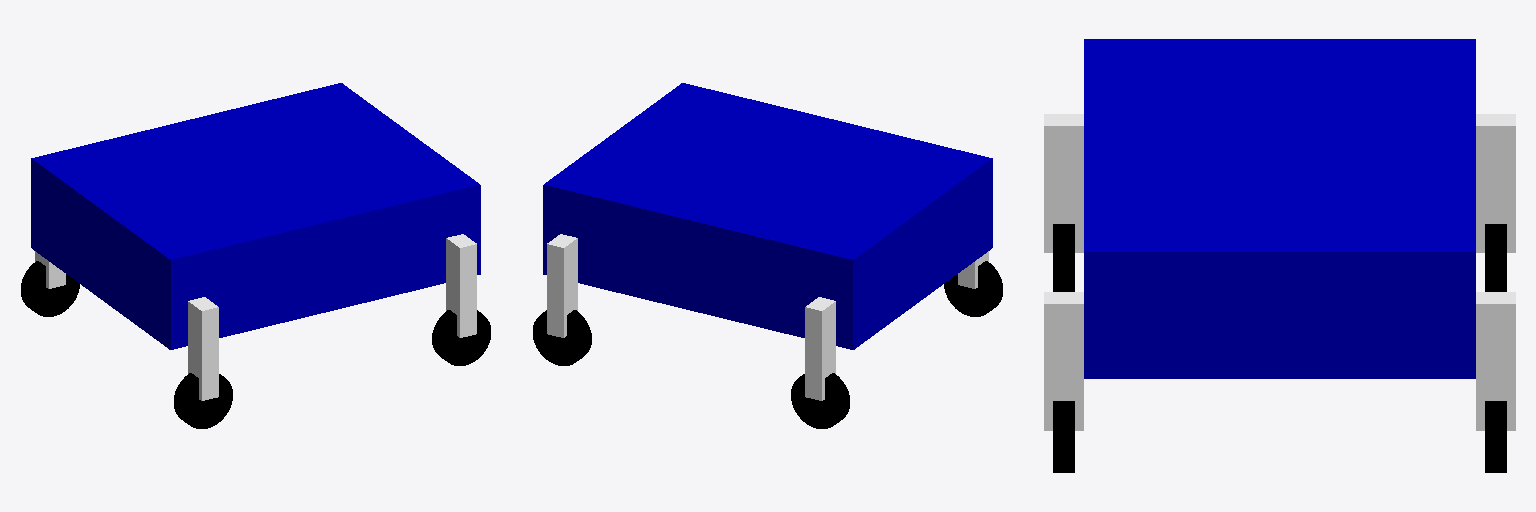
robot.urdf — my_robot:
<?xml version="1.0"?>

<robot name="my_robot">

	<material name="blue">
    		<color rgba="0 0 0.8 1"/>
  	</material>
  	
  	<material name="white">
    		<color rgba="1 1 1 1"/>
  	</material>
  	
  	<material name="black">
  		<color rgba = "0 0 0 1"/>
  	</material>

	<material name="red">
		<color rgba = "1 0 0 1"/>
	</material>
  	
  	<link name="base_dummy"/>

    	<joint name="base_dummy_joint" type="fixed">
        	<parent link="base_dummy"/>
        	<child link="base_link"/>
        	<origin xyz="0 0 0" rpy="0 0 0"/>
    	</joint>
  
	<link name = "base_link">
		<visual>
			<geometry>
				<box size="1.8 1.4 0.5"/>
			</geometry>
			<material name="blue"/>
		</visual>
		<collision>
            		<geometry>
                		<box size="1.8 1.4 0.5"/>
            		</geometry>
        	</collision>

		<inertial>
			<mass value="10.0"/>
		    	<!-- Box: 1.8 x 1.4 x 0.5, mass=10 -->
		    	<!-- ixx = (1/12)*10*(1.4^2 + 0.5^2) = 1.847 -->
		    	<!-- iyy = (1/12)*10*(1.8^2 + 0.5^2) = 2.908 -->
		    	<!-- izz = (1/12)*10*(1.8^2 + 1.4^2) = 4.333 -->
		    	<inertia
		        	ixx="1.847" ixy="0.0" ixz="0.0"
		        	iyy="2.908" iyz="0.0"
		        	izz="4.333"/>
		</inertial>
	</link>
	
	<link name = "back_left_leg">
		<visual>
			<geometry>
				<box size="0.1 0.14 0.5"/>
			</geometry>
			<material name="white"/>
			<origin xyz = "0 0 -0.125"/>
		</visual>
		
		<collision>
			<geometry>
		        	<box size="0.1 0.14 0.5"/>
		    	</geometry>
		    	<origin xyz="0 0 -0.125"/>
		</collision>

		<inertial>
		    	<mass value="0.5"/>
		    	<origin xyz="0 0 -0.125"/>
		    	<!-- Box: 0.1 x 0.14 x 0.5, mass=0.5 -->
		    	<!-- ixx = (1/12)*0.5*(0.14^2 + 0.5^2) = 0.0112 -->
		    	<!-- iyy = (1/12)*0.5*(0.1^2 + 0.5^2)  = 0.0108 -->
		   	 <!-- izz = (1/12)*0.5*(0.1^2 + 0.14^2)  = 0.0012 -->
		    	<inertia
		        	ixx="0.0112" ixy="0.0" ixz="0.0"
		        	iyy="0.0108" iyz="0.0"
		        	izz="0.0012"/>
		</inertial>
	</link>
	
	<joint name = "back_left_leg_joint" type="fixed">
		<parent link = "base_link"/>
		<child link = "back_left_leg"/>
		<origin xyz = "-0.75 -.77 -0.125"/>
		<limit lower="-1.5708" upper="1.5708" effort="10" velocity="1"/>
	</joint>
	
	<link name = "back_right_leg">
		<visual>
			<geometry>
				<box size = "0.1 0.14 0.5"/>
			</geometry>
			<material name="white"/>
			<origin xyz = "0 0 -0.125"/>
		</visual>
		<collision>
			<geometry>
		        	<box size="0.1 0.14 0.5"/>
		    	</geometry>
		    	<origin xyz="0 0 -0.125"/>
		</collision>

		<inertial>
		    	<mass value="0.5"/>
		    	<origin xyz="0 0 -0.125"/>
		    	<!-- Box: 0.1 x 0.14 x 0.5, mass=0.5 -->
		    	<!-- ixx = (1/12)*0.5*(0.14^2 + 0.5^2) = 0.0112 -->
		    	<!-- iyy = (1/12)*0.5*(0.1^2 + 0.5^2)  = 0.0108 -->
		   	 <!-- izz = (1/12)*0.5*(0.1^2 + 0.14^2)  = 0.0012 -->
		    	<inertia
		        	ixx="0.0112" ixy="0.0" ixz="0.0"
		        	iyy="0.0108" iyz="0.0"
		        	izz="0.0012"/>
		</inertial>
	</link>
	
	<joint name = "back_right_leg_joint" type = "fixed">
		<parent link = "base_link"/>
		<child link = "back_right_leg"/>
		<origin xyz = "-0.75 0.77 -0.125"/>
		<limit lower="-1.5708" upper="1.5708" effort="10" velocity="1"/>
	</joint>
	
	<link name = "front_left_leg">
		<visual>
			<geometry>
				<box size="0.1 0.14 0.5"/>
			</geometry>
			<material name="white"/>
			<origin xyz = "0 0 -0.125"/>
		</visual>
		<collision>
			<geometry>
		        	<box size="0.1 0.14 0.5"/>
		    	</geometry>
		    	<origin xyz="0 0 -0.125"/>
		</collision>

		<inertial>
		    	<mass value="0.5"/>
		    	<origin xyz="0 0 -0.125"/>
		    	<!-- Box: 0.1 x 0.14 x 0.5, mass=0.5 -->
		    	<!-- ixx = (1/12)*0.5*(0.14^2 + 0.5^2) = 0.0112 -->
		    	<!-- iyy = (1/12)*0.5*(0.1^2 + 0.5^2)  = 0.0108 -->
		   	 <!-- izz = (1/12)*0.5*(0.1^2 + 0.14^2)  = 0.0012 -->
		    	<inertia
		        	ixx="0.0112" ixy="0.0" ixz="0.0"
		        	iyy="0.0108" iyz="0.0"
		        	izz="0.0012"/>
		</inertial>
	</link>
	
	<joint name = "front_left_leg_joint" type="fixed">
		<parent link = "base_link"/>
		<child link = "front_left_leg"/>
		<origin xyz = "0.75 -.77 -0.125"/>
		<limit lower="-1.5708" upper="1.5708" effort="10" velocity="1"/>
	</joint>
	
	<link name = "front_right_leg">
		<visual>
			<geometry>
				<box size = "0.1 0.14 0.5"/>
			</geometry>
			<material name="white"/>
			<origin xyz = "0 0 -0.125"/>
		</visual>
		<collision>
			<geometry>
		        	<box size="0.1 0.14 0.5"/>
		    	</geometry>
		    	<origin xyz="0 0 -0.125"/>
		</collision>

		<inertial>
		    	<mass value="0.5"/>
		    	<origin xyz="0 0 -0.125"/>
		    	<!-- Box: 0.1 x 0.14 x 0.5, mass=0.5 -->
		    	<!-- ixx = (1/12)*0.5*(0.14^2 + 0.5^2) = 0.0112 -->
		    	<!-- iyy = (1/12)*0.5*(0.1^2 + 0.5^2)  = 0.0108 -->
		   	 <!-- izz = (1/12)*0.5*(0.1^2 + 0.14^2)  = 0.0012 -->
		    	<inertia
		        	ixx="0.0112" ixy="0.0" ixz="0.0"
		        	iyy="0.0108" iyz="0.0"
		        	izz="0.0012"/>
		</inertial>
	</link>
	
	<joint name = "front_right_leg_joint" type = "fixed">
		<parent link = "base_link"/>
		<child link = "front_right_leg"/>
		<origin xyz = "0.75 0.77 -0.125"/>
		<limit lower="-1.5708" upper="1.5708" effort="10" velocity="1"/>
	</joint>
	
	<link name = "left_back_wheel">
		<visual>
			<geometry>
				<cylinder radius = "0.15" length = "0.08"/>
			</geometry>
			<material name="black"/>
			<origin rpy = "1.5708 0 0"/>
		</visual>
		<collision>
            		<geometry>
                		<cylinder radius="0.15" length="0.08"/>
            		</geometry>
           	 	<origin rpy="1.5708 0 0"/>
        	</collision>

        	<inertial>
            		<mass value="1.0"/>
            		<!-- Cylinder: r=0.15, h=0.08, mass=1.0 -->
            		<!-- ixx = (1/12)*1*(3*0.15^2 + 0.08^2) = 0.006 -->
            		<!-- iyy = (1/12)*1*(3*0.15^2 + 0.08^2) = 0.006 -->
            		<!-- izz = (1/2)*1*0.15^2 = 0.011 -->
            		<inertia
                		ixx="0.006" ixy="0.0" ixz="0.0"
                		iyy="0.006" iyz="0.0"
                		izz="0.011"/>
        	</inertial>
	</link>
	
	<joint name = "left_back_wheel_joint" type = "continuous">
		<parent link = "back_left_leg"/>
		<child link = "left_back_wheel"/>
		<axis xyz = "0 1 0"/>
		<origin xyz = "0 0 -0.4"/>
	</joint>
	
	<link name = "right_back_wheel">
		<visual>
			<geometry>
				<cylinder radius = "0.15" length = "0.08"/>
			</geometry>
			<material name="black"/>
			<origin rpy = "1.5708 0 0"/>
		</visual>
		
		<collision>
            		<geometry>
                		<cylinder radius="0.15" length="0.08"/>
            		</geometry>
           	 	<origin rpy="1.5708 0 0"/>
        	</collision>

        	<inertial>
            		<mass value="1.0"/>
            		<!-- Cylinder: r=0.15, h=0.08, mass=1.0 -->
            		<!-- ixx = (1/12)*1*(3*0.15^2 + 0.08^2) = 0.006 -->
            		<!-- iyy = (1/12)*1*(3*0.15^2 + 0.08^2) = 0.006 -->
            		<!-- izz = (1/2)*1*0.15^2 = 0.011 -->
            		<inertia
                		ixx="0.006" ixy="0.0" ixz="0.0"
                		iyy="0.006" iyz="0.0"
                		izz="0.011"/>
        	</inertial>
	</link>
	
	<joint name = "right_back_wheel_joint" type = "continuous">
		<parent link = "back_right_leg"/>
		<child link = "right_back_wheel"/>
		<axis xyz = "0 1 0"/>
		<origin xyz = "0 0 -0.4"/>
	</joint>
	
	<link name = "left_front_wheel">
		<visual>
			<geometry>
				<cylinder radius = "0.15" length = "0.08"/>
			</geometry>
			<material name="black"/>
			<origin rpy = "1.5708 0 0"/>
		</visual>
		
		<collision>
            		<geometry>
                		<cylinder radius="0.15" length="0.08"/>
            		</geometry>
           	 	<origin rpy="1.5708 0 0"/>
        	</collision>

        	<inertial>
            		<mass value="1.0"/>
            		<!-- Cylinder: r=0.15, h=0.08, mass=1.0 -->
            		<!-- ixx = (1/12)*1*(3*0.15^2 + 0.08^2) = 0.006 -->
            		<!-- iyy = (1/12)*1*(3*0.15^2 + 0.08^2) = 0.006 -->
            		<!-- izz = (1/2)*1*0.15^2 = 0.011 -->
            		<inertia
                		ixx="0.006" ixy="0.0" ixz="0.0"
                		iyy="0.006" iyz="0.0"
                		izz="0.011"/>
        	</inertial>
	</link>
	
	<joint name = "left_front_wheel_joint" type = "continuous">
		<parent link = "front_left_leg"/>
		<child link = "left_front_wheel"/>
		<axis xyz = "0 1 0"/>
		<origin xyz = "0 0 -0.4"/>
	</joint>
	
	<link name = "right_front_wheel">
		<visual>
			<geometry>
				<cylinder radius = "0.15" length = "0.08"/>
			</geometry>
			<material name="black"/>
			<origin rpy = "1.5708 0 0"/>
		</visual>
		<collision>
            		<geometry>
                		<cylinder radius="0.15" length="0.08"/>
            		</geometry>
           	 	<origin rpy="1.5708 0 0"/>
        	</collision>

        	<inertial>
            		<mass value="1.0"/>
            		<!-- Cylinder: r=0.15, h=0.08, mass=1.0 -->
            		<!-- ixx = (1/12)*1*(3*0.15^2 + 0.08^2) = 0.006 -->
            		<!-- iyy = (1/12)*1*(3*0.15^2 + 0.08^2) = 0.006 -->
            		<!-- izz = (1/2)*1*0.15^2 = 0.011 -->
            		<inertia
                		ixx="0.006" ixy="0.0" ixz="0.0"
                		iyy="0.006" iyz="0.0"
                		izz="0.011"/>
        	</inertial>
	</link>
	
	<joint name = "right_front_wheel_joint" type = "continuous">
		<parent link = "front_right_leg"/>
		<child link = "right_front_wheel"/>
		<axis xyz = "0 1 0"/>
		<origin xyz = "0 0 -0.4"/>
	</joint>
		
	<!-- Diff Drive Plugin for Gazebo Ignition -->
	<gazebo>
    		<plugin
        		filename="libignition-gazebo-diff-drive-system.so"
        		name="ignition::gazebo::systems::DiffDrive">

        	<!-- Left wheels -->
        	<left_joint>left_back_wheel_joint</left_joint>
        	<left_joint>left_front_wheel_joint</left_joint>

        	<!-- Right wheels -->
        	<right_joint>right_back_wheel_joint</right_joint>
        	<right_joint>right_front_wheel_joint</right_joint>

        	<!-- Wheel properties -->
        	<wheel_separation>1.54</wheel_separation>
        	<wheel_radius>0.15</wheel_radius>

        	<!-- Gazebo topic to listen for commands -->
        	<topic>cmd_vel</topic>

    		</plugin>
	</gazebo>
	
	<!-- Wheel Friction -->
	<gazebo reference="left_back_wheel">
   		<mu1>1.0</mu1>
    		<mu2>1.0</mu2>
	</gazebo>

	<gazebo reference="right_back_wheel">
   	 	<mu1>1.0</mu1>
    		<mu2>1.0</mu2>
	</gazebo>

	<gazebo reference="left_front_wheel">
    		<mu1>1.0</mu1>
    		<mu2>1.0</mu2>
	</gazebo>

	<gazebo reference="right_front_wheel">
    		<mu1>1.0</mu1>
    		<mu2>1.0</mu2>
	</gazebo>
	
	    <!-- Joint State Publisher Plugin -->
    	<gazebo>
        	<plugin
            	filename="libignition-gazebo-joint-state-publisher-system.so"
            	name="ignition::gazebo::systems::JointStatePublisher">
        	</plugin>
    	</gazebo>
	
</robot>

--- What the picture shows (computed from the rendered views, not written in the file) ---
Views: 3 orthographic renders of the robot side by side, from view 1: azimuth 30°, elevation 25°; view 2: azimuth 150°, elevation 25°; view 3: azimuth 270°, elevation 25°.
Model my_robot with 10 links and 9 joints (4 continuous, 5 fixed), rooted at base_dummy, posed all joints at 0.
Links seen in each view (by area): view 1: base_link, front_left_leg, back_left_leg, left_back_wheel, left_front_wheel, right_back_wheel; view 2: base_link, front_right_leg, back_right_leg, right_back_wheel, right_front_wheel, left_back_wheel; view 3: base_link, back_left_leg, back_right_leg, front_left_leg, front_right_leg, left_front_wheel, right_front_wheel, left_back_wheel, right_back_wheel.
Link boxes in pixels (left/top/right/bottom): base_link: left=31, top=83, right=480, bottom=349; front_left_leg: left=446, top=234, right=476, bottom=337; back_left_leg: left=188, top=297, right=218, bottom=400; left_back_wheel: left=174, top=373, right=232, bottom=428; left_front_wheel: left=432, top=310, right=490, bottom=365; right_back_wheel: left=21, top=261, right=79, bottom=316; base_link: left=543, top=83, right=992, bottom=349; front_right_leg: left=547, top=234, right=577, bottom=337; back_right_leg: left=805, top=297, right=835, bottom=400; right_back_wheel: left=791, top=373, right=849, bottom=428; right_front_wheel: left=533, top=310, right=591, bottom=365; left_back_wheel: left=944, top=261, right=1002, bottom=316; base_link: left=1084, top=39, right=1475, bottom=378; back_left_leg: left=1044, top=114, right=1083, bottom=252; back_right_leg: left=1476, top=114, right=1515, bottom=252; front_left_leg: left=1044, top=292, right=1083, bottom=430; front_right_leg: left=1476, top=292, right=1515, bottom=430; left_front_wheel: left=1053, top=401, right=1074, bottom=472; right_front_wheel: left=1485, top=401, right=1506, bottom=472; left_back_wheel: left=1053, top=224, right=1074, bottom=291; right_back_wheel: left=1485, top=224, right=1506, bottom=291.
Bounding box of the posed robot: 1.8 × 1.68 × 0.925 m (x, y, z).
Geometry: primitives only (box / cylinder / sphere), no mesh files.
